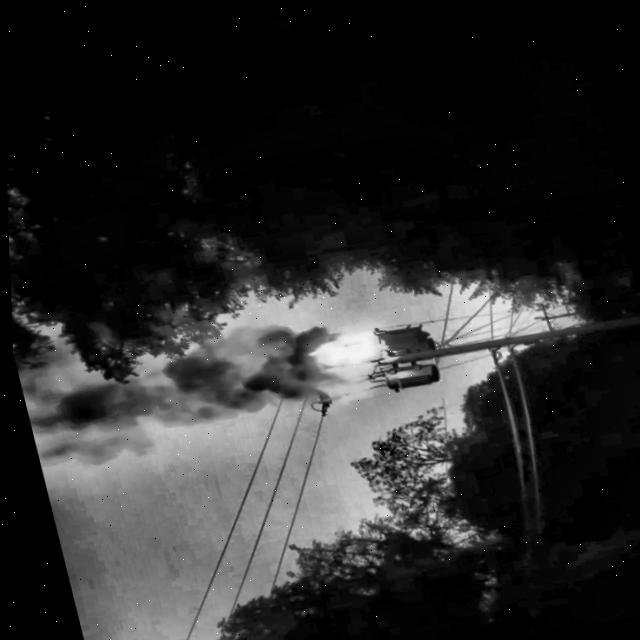Fire: (306, 315, 394, 376)
